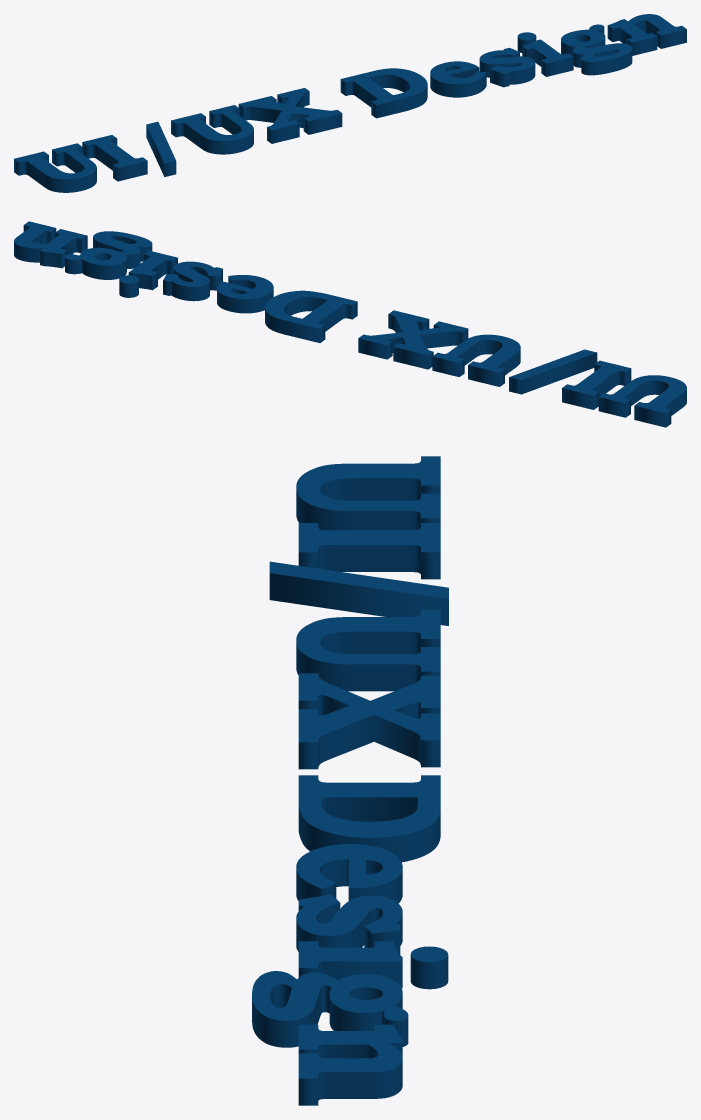
File: uiux_design.fbx
3 renders of one model, top to bottom at view 1: azimuth 30°, elevation 25°; view 2: azimuth 150°, elevation 25°; view 3: azimuth 270°, elevation 25°, orthographic. The views are drawn at different scales.
Parts seen in each view (by area): view 1: Text; view 2: Text; view 3: Text.
Part boxes in pixels (x1,y1,x2,y2): Text: (14, 14, 686, 192); Text: (14, 221, 686, 427); Text: (252, 456, 448, 1105).
Size of the model in its own units: 495 by 10 by 66.12.
